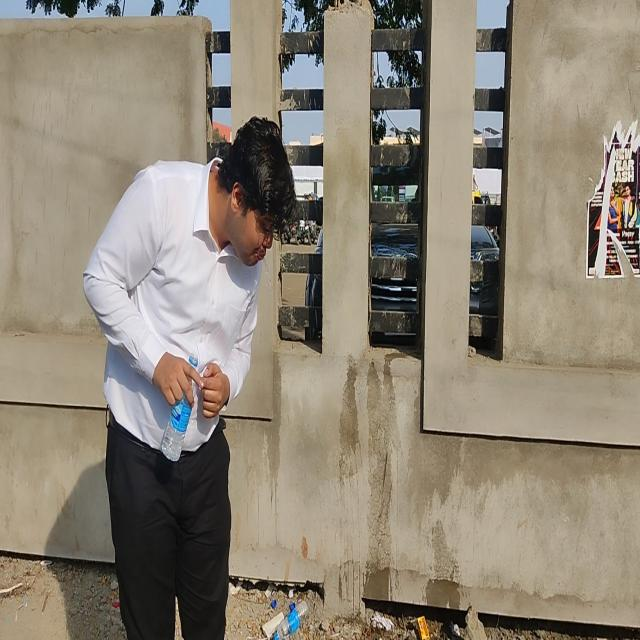spit: (218, 136, 295, 310)
